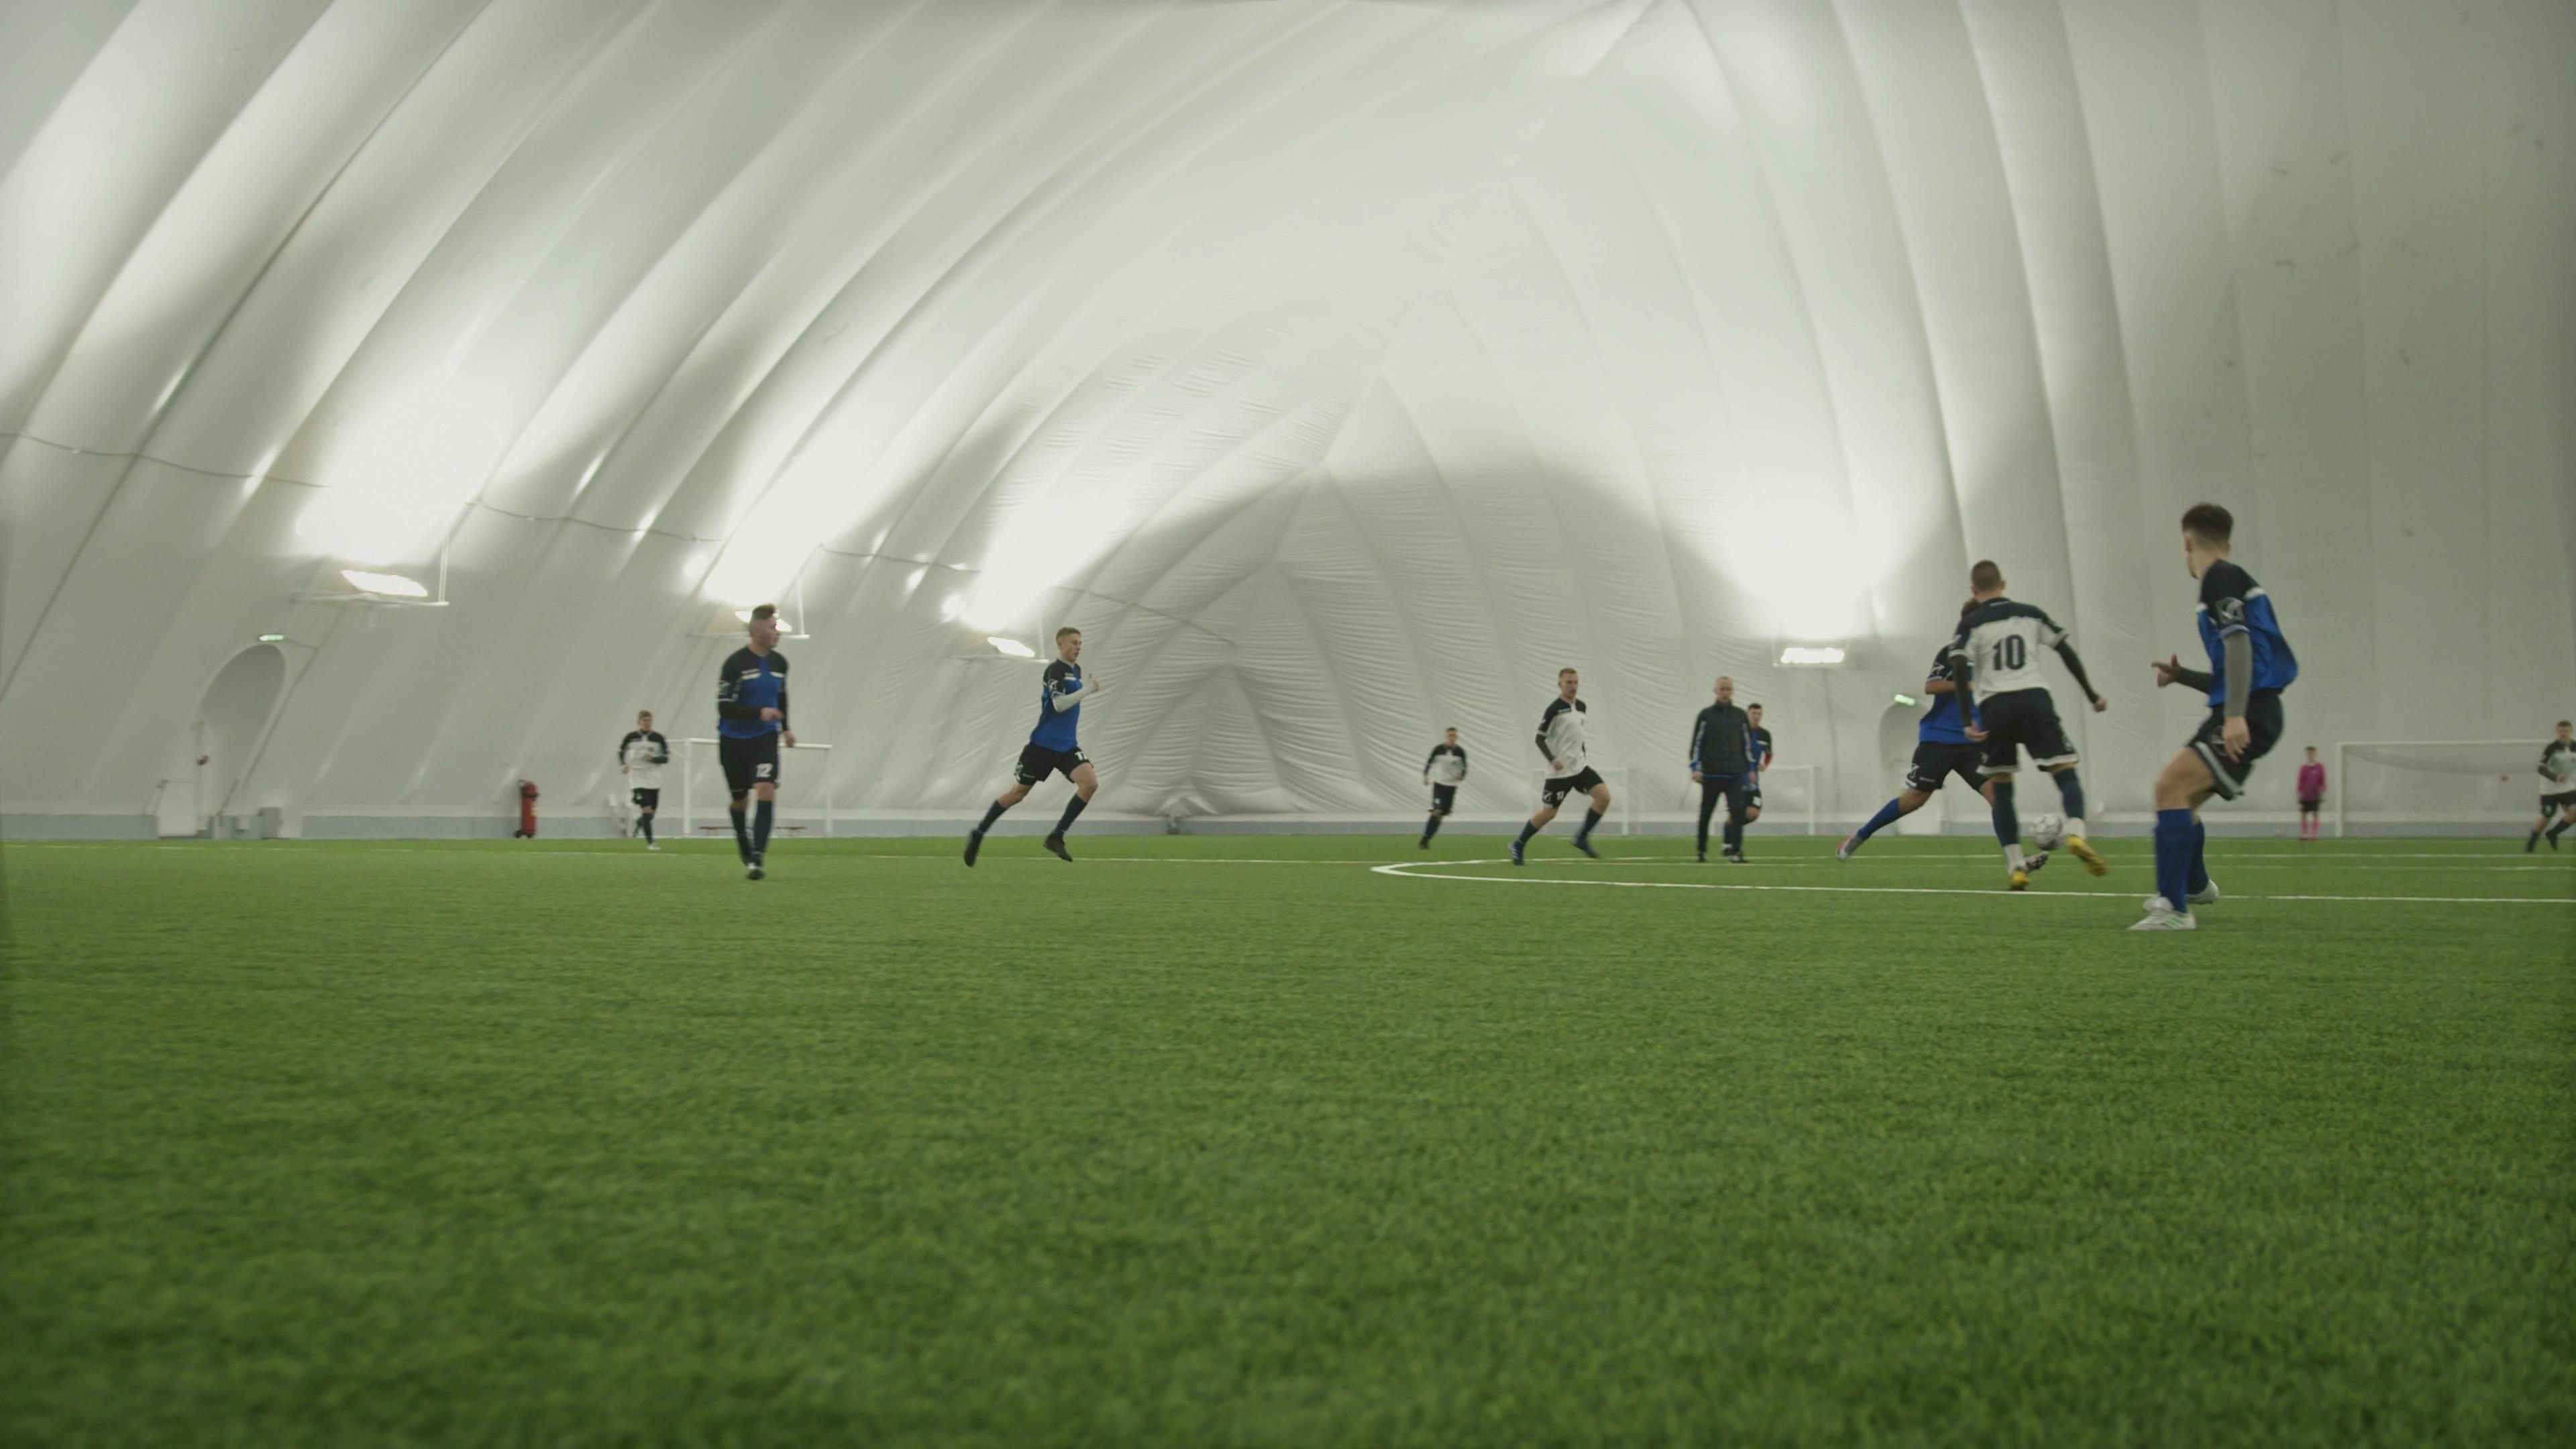other: (1688, 676, 1769, 862)
team1: (2132, 501, 2302, 931), (954, 625, 1100, 867), (1838, 642, 1999, 862), (715, 609, 796, 878), (1734, 683, 1776, 858)
team1gk: (2289, 743, 2337, 830)
team2: (1948, 561, 2114, 886), (1506, 667, 1610, 863), (616, 706, 676, 847), (2525, 702, 2574, 855), (1419, 724, 1468, 851)
